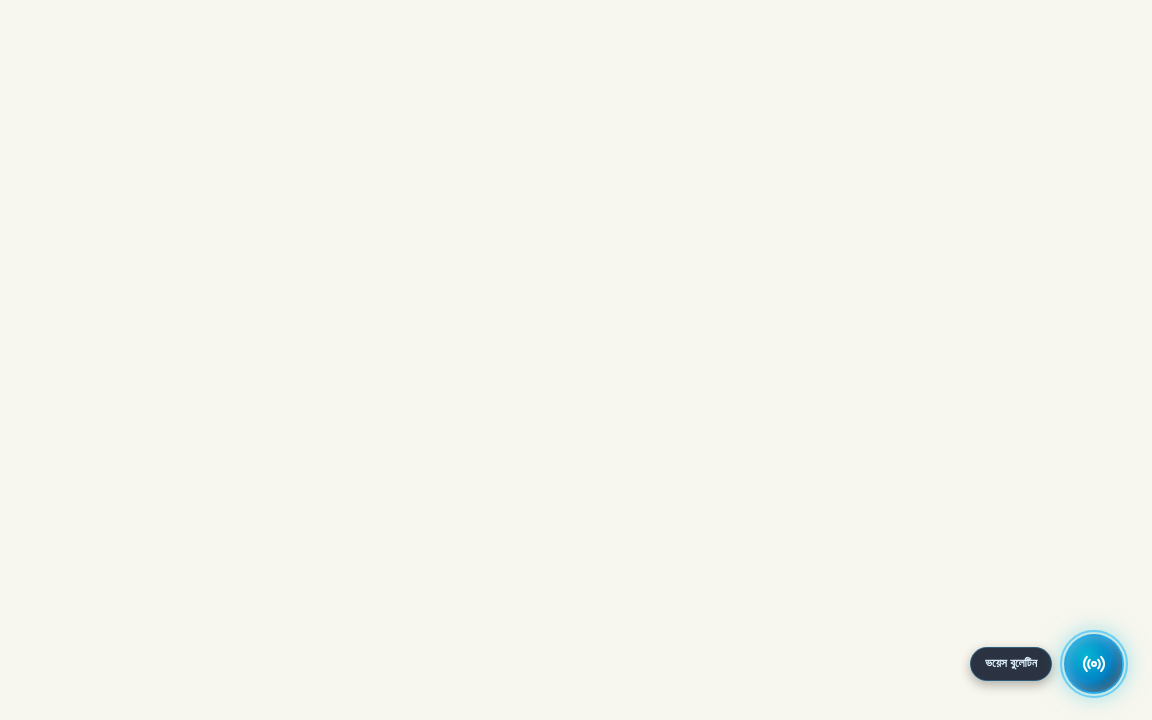
Test: VoiceNotificationOrb Component & Futuristic HUD › never substitutes invented cash or all-clear alerts when current data is unavailable
What coordinates should you click on to do the following:
click the button named "ভয়েস নোটিফিকেশন শুনুন"
I would click on:
 (1094, 664)
Its box is [1064, 634, 1124, 694].
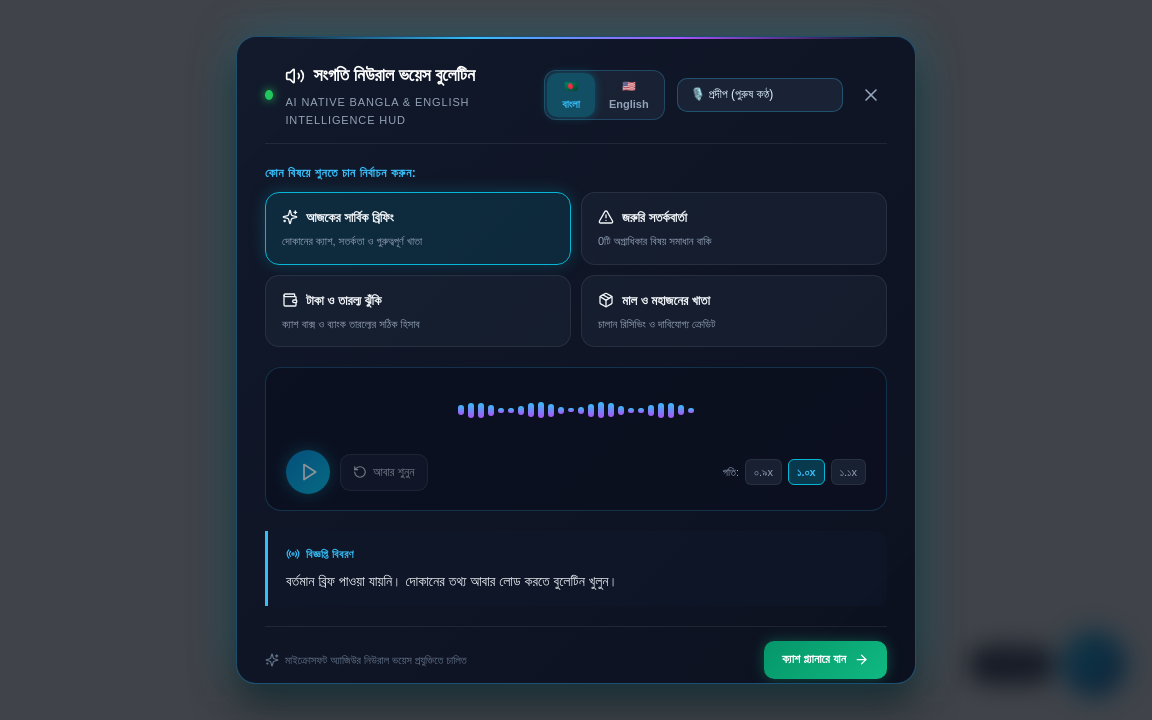
What coordinates should you click on to do the following:
click the button "🇺🇸 English"
I would click on:
 (629, 95)
Its box is [595, 73, 662, 117].
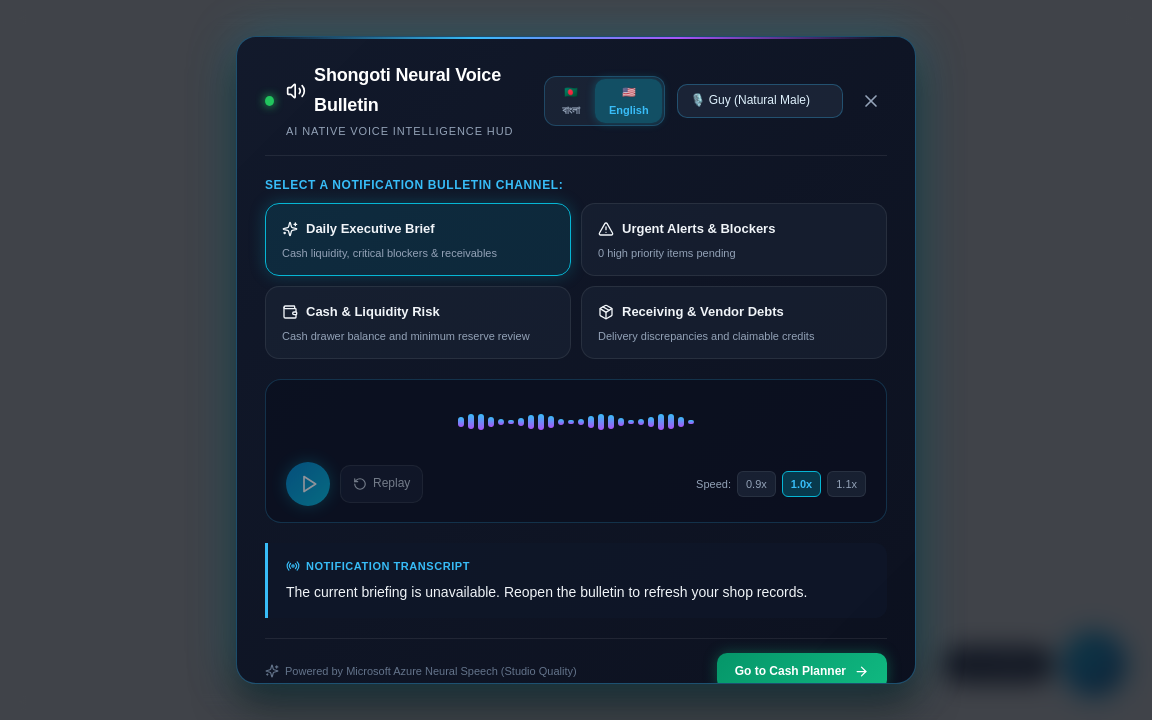
Check: the button named "Play" is disabled, box [286, 462, 330, 506]
Check: the text "current briefing is unavailable" is shown, box [286, 584, 807, 600]
